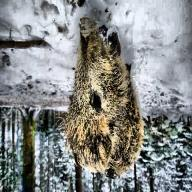boar: (58, 23, 144, 176)
